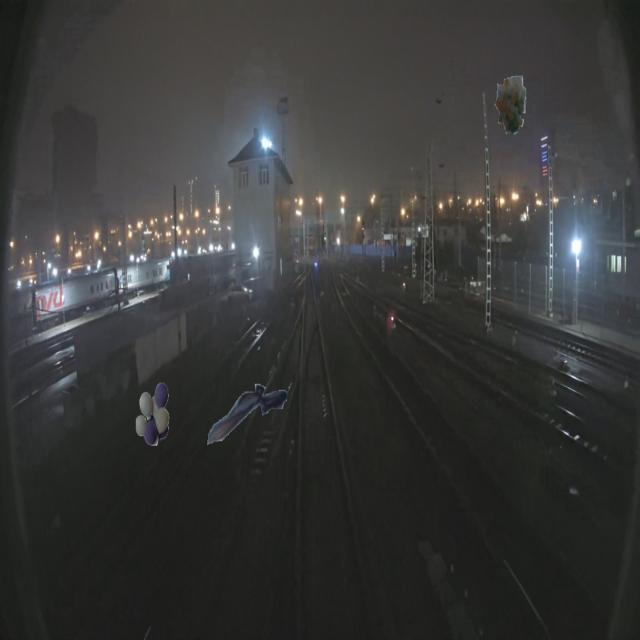balloon: (136, 382, 169, 446), (495, 70, 526, 134)
floating object: (207, 382, 288, 446)
